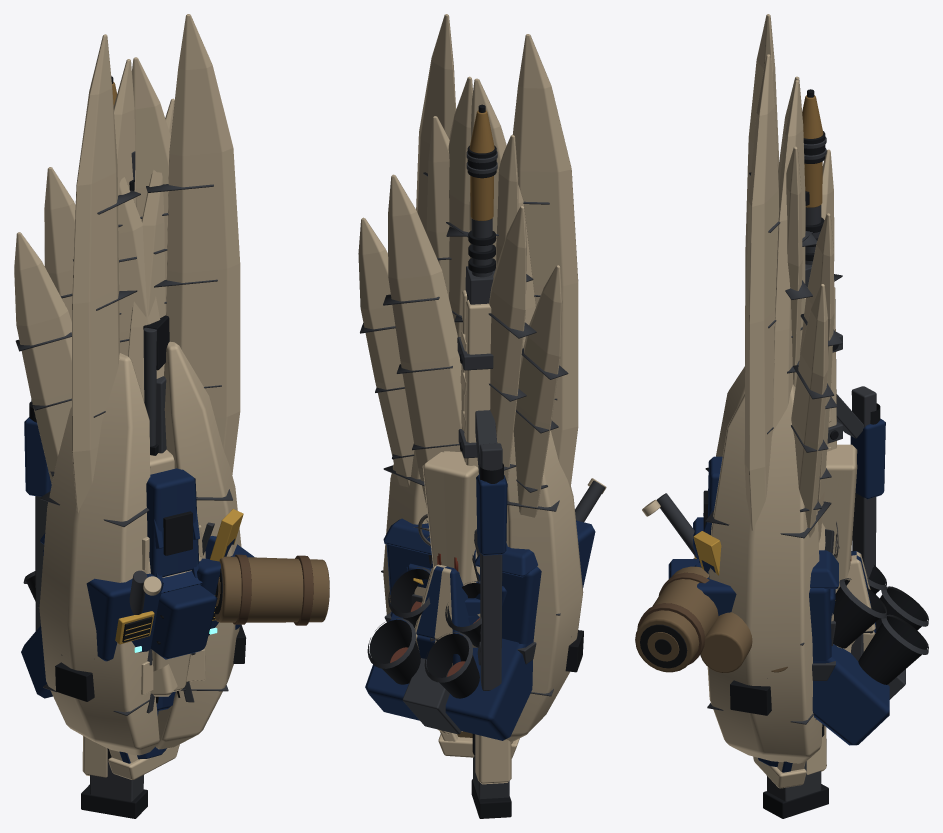
The picture shows the model from 3 angles, left to right: view 1: azimuth 30°, elevation 25°; view 2: azimuth 150°, elevation 25°; view 3: azimuth 270°, elevation 25°; orthographic projection. The views are drawn at different scales.
Parts seen in each view (by area): view 1: Part_WingBinder.L, Part_WingBinder.R, Part_Rifle.R, Part_Backpack, Part_Chest, Part_Shin.R, Part_Shin.L, Part_Shield.L, Part_Pelvis, Part_Pauldron.R; view 2: Part_WingBinder.R, Part_WingBinder.L, Part_Rifle.R, Part_Backpack, Part_Chest, Part_Shin.L, Part_Shin.R, Part_Shield.L; view 3: Part_WingBinder.L, Part_Backpack, Part_WingBinder.R, Part_Rifle.R, Part_Shin.R, Part_Chest, Part_Shin.L, Part_Shield.L.
Boxes of the visible parts, x1,y1,x2,y2 form: Part_WingBinder.L: [14, 14, 246, 749]; Part_WingBinder.R: [37, 34, 174, 755]; Part_Rifle.R: [24, 76, 243, 818]; Part_Backpack: [21, 554, 329, 698]; Part_Chest: [40, 533, 254, 661]; Part_Shin.R: [143, 455, 196, 582]; Part_Shin.L: [150, 449, 201, 577]; Part_Shield.L: [108, 711, 179, 779]; Part_Pelvis: [152, 650, 190, 691]; Part_Pauldron.R: [150, 652, 195, 696]; Part_WingBinder.R: [358, 34, 583, 742]; Part_WingBinder.L: [381, 14, 568, 734]; Part_Rifle.R: [457, 104, 511, 818]; Part_Backpack: [365, 478, 606, 740]; Part_Chest: [383, 518, 595, 664]; Part_Shin.L: [414, 451, 478, 665]; Part_Shin.R: [414, 452, 477, 665]; Part_Shield.L: [438, 731, 519, 758]; Part_WingBinder.L: [705, 54, 863, 763]; Part_Backpack: [635, 493, 928, 745]; Part_WingBinder.R: [705, 14, 842, 542]; Part_Rifle.R: [693, 89, 885, 818]; Part_Shin.R: [703, 445, 875, 651]; Part_Chest: [668, 517, 838, 680]; Part_Shin.L: [703, 444, 876, 632]; Part_Shield.L: [753, 756, 806, 788].
Size of the model in its own units: 0.6095 by 1.93 by 0.658.
